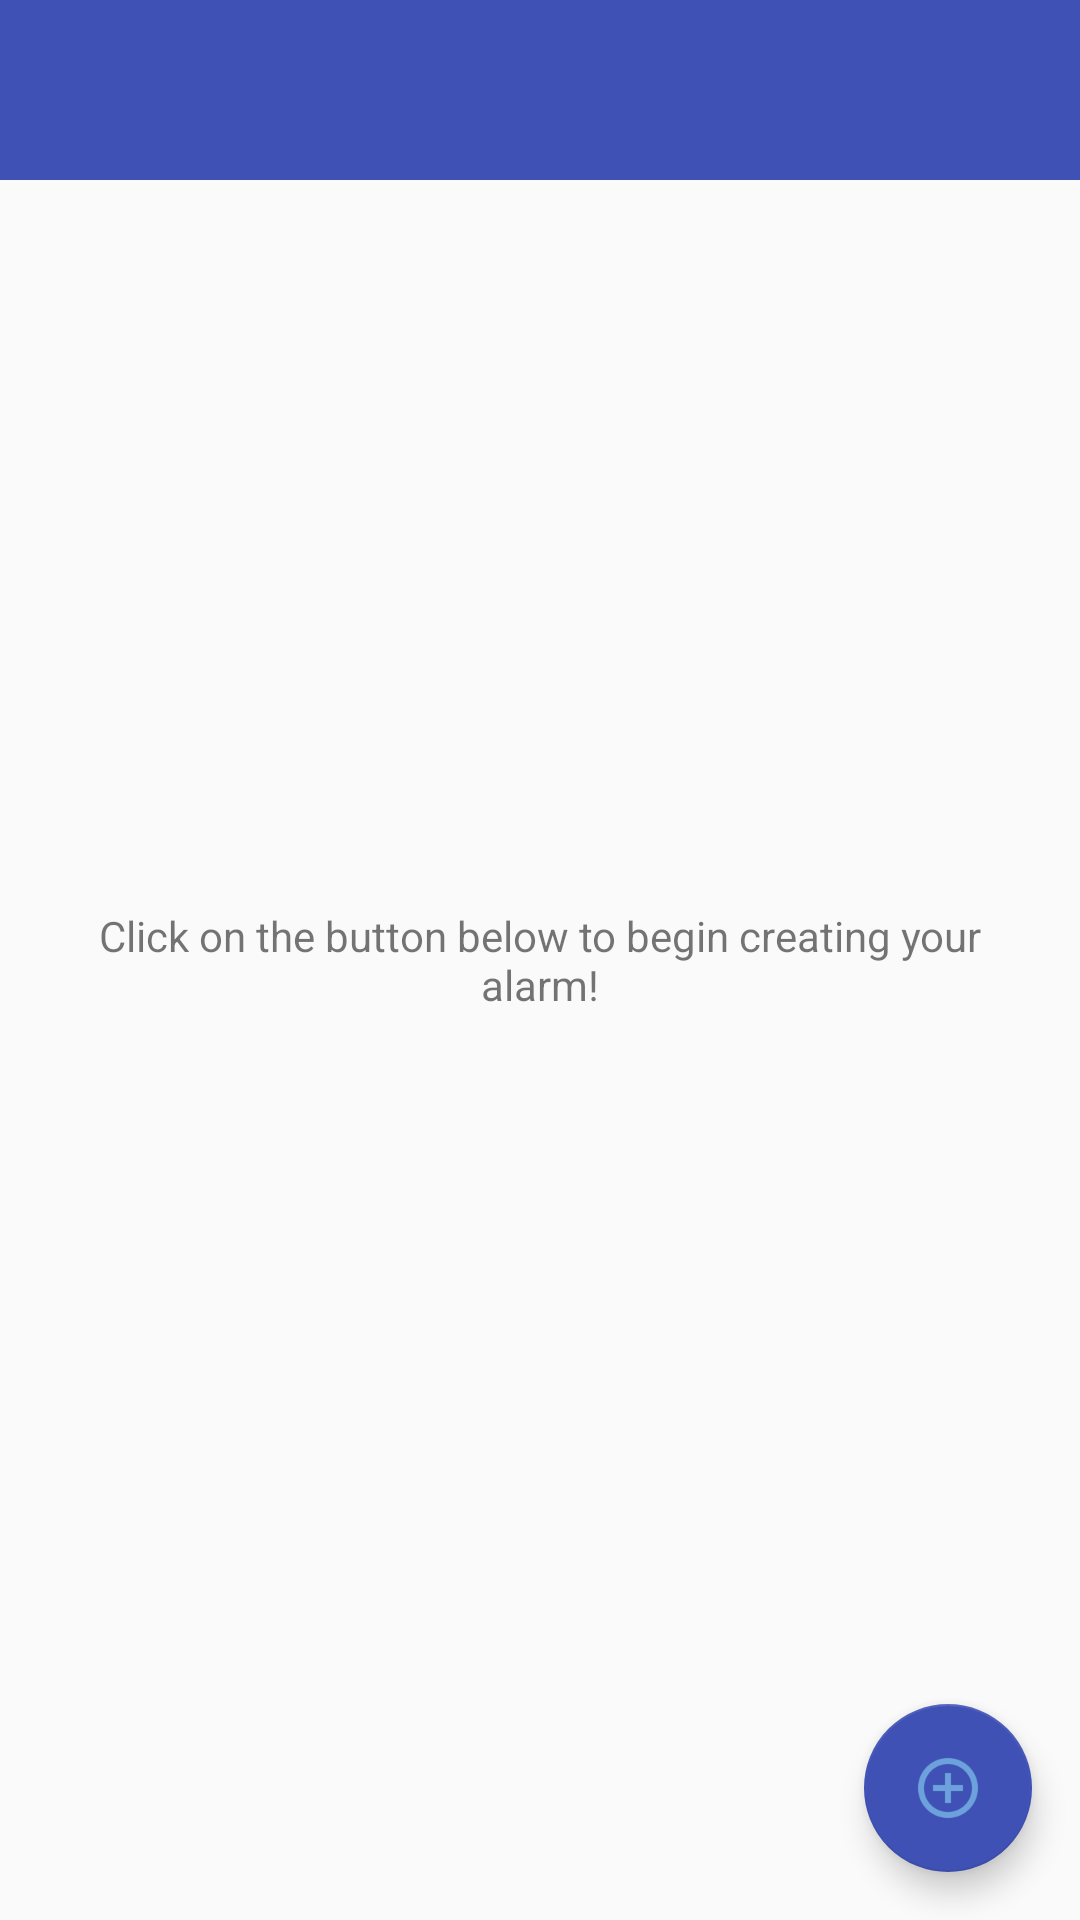

Point at icon controls on the screen. Image size 1080 × 1920, points as (x=x, y=y).
add alarms: (x=948, y=1788)
